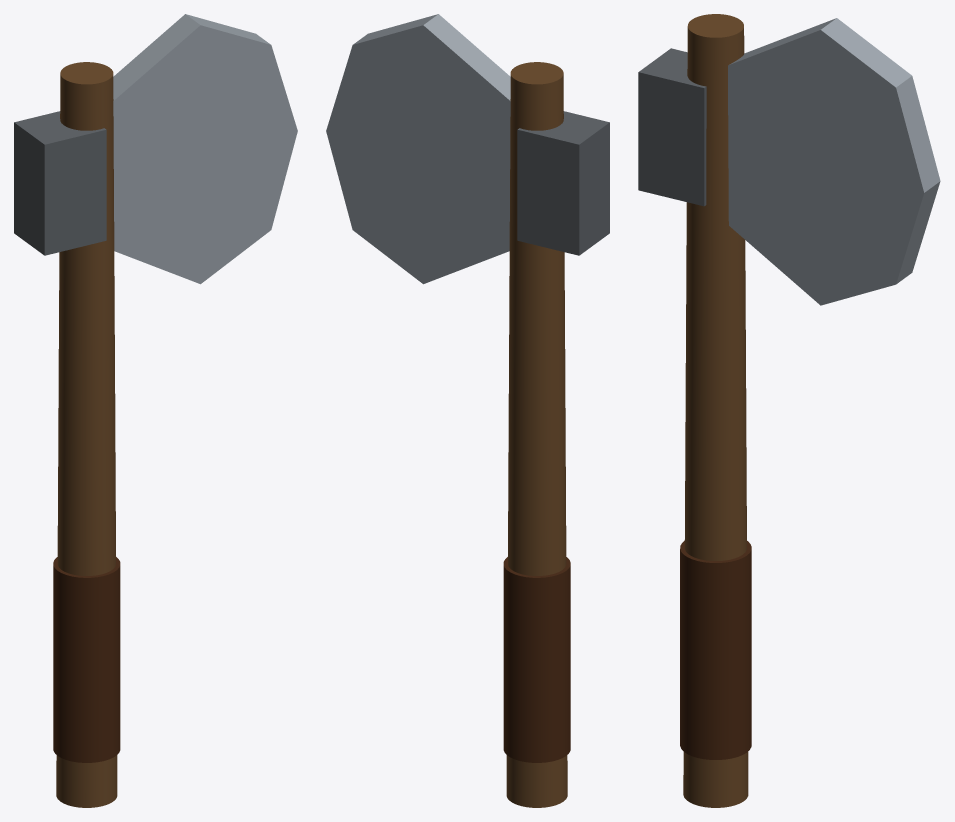
File: hand_axe.glb
The picture shows the model from 3 angles, left to right: view 1: azimuth 30°, elevation 25°; view 2: azimuth 150°, elevation 25°; view 3: azimuth 330°, elevation 25°; orthographic projection. The views are drawn at different scales.
Parts seen in each view (by area): view 1: ha_head, ha_shaft, ha_grip, ha_back; view 2: ha_head, ha_shaft, ha_grip, ha_back; view 3: ha_head, ha_shaft, ha_grip, ha_back.
Part boxes in pixels (left/top/right/bottom): ha_head: left=113, top=14, right=297, bottom=284; ha_shaft: left=56, top=62, right=117, bottom=807; ha_grip: left=53, top=557, right=120, bottom=762; ha_back: left=14, top=111, right=106, bottom=255; ha_head: left=326, top=14, right=510, bottom=284; ha_shaft: left=506, top=62, right=567, bottom=807; ha_grip: left=503, top=557, right=570, bottom=762; ha_back: left=517, top=111, right=609, bottom=255; ha_head: left=728, top=18, right=940, bottom=305; ha_shaft: left=683, top=14, right=748, bottom=807; ha_grip: left=680, top=541, right=751, bottom=759; ha_back: left=638, top=48, right=706, bottom=206.
Bounding box in the file's own units: 0.295 × 0.81 × 0.066.
